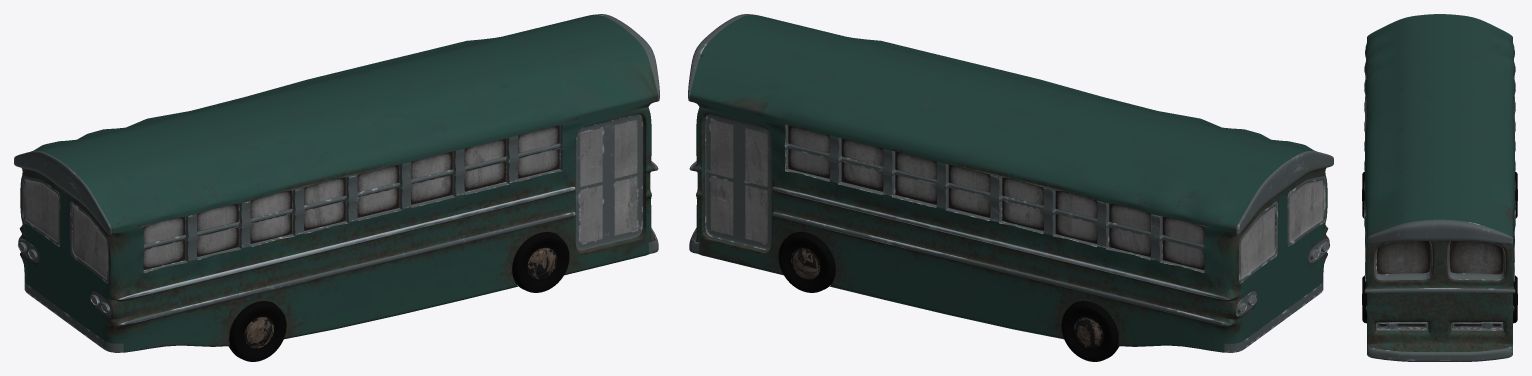
File: bus_wreck.glb
3 renders of one model, left to right at view 1: azimuth 30°, elevation 25°; view 2: azimuth 150°, elevation 25°; view 3: azimuth 270°, elevation 25°, orthographic. The views are drawn at different scales.
Visible parts, largest first — view 1: Bus (×3), Wheels (×2); view 2: Bus (×3), Wheels (×2); view 3: Bus (×4), Wheels.
Boxes of the visible parts, <box> form: Bus (×3): <box>14,14,659,352</box>; Wheels (×2): <box>228,232,569,361</box>; Bus (×3): <box>688,14,1333,352</box>; Wheels (×2): <box>778,232,1119,361</box>; Bus (×4): <box>1364,14,1515,361</box>; Wheels: <box>1362,171,1517,323</box>.
Size of the model in its own units: 11 by 3.66 by 3.46.
8 materials, 7 textured.
